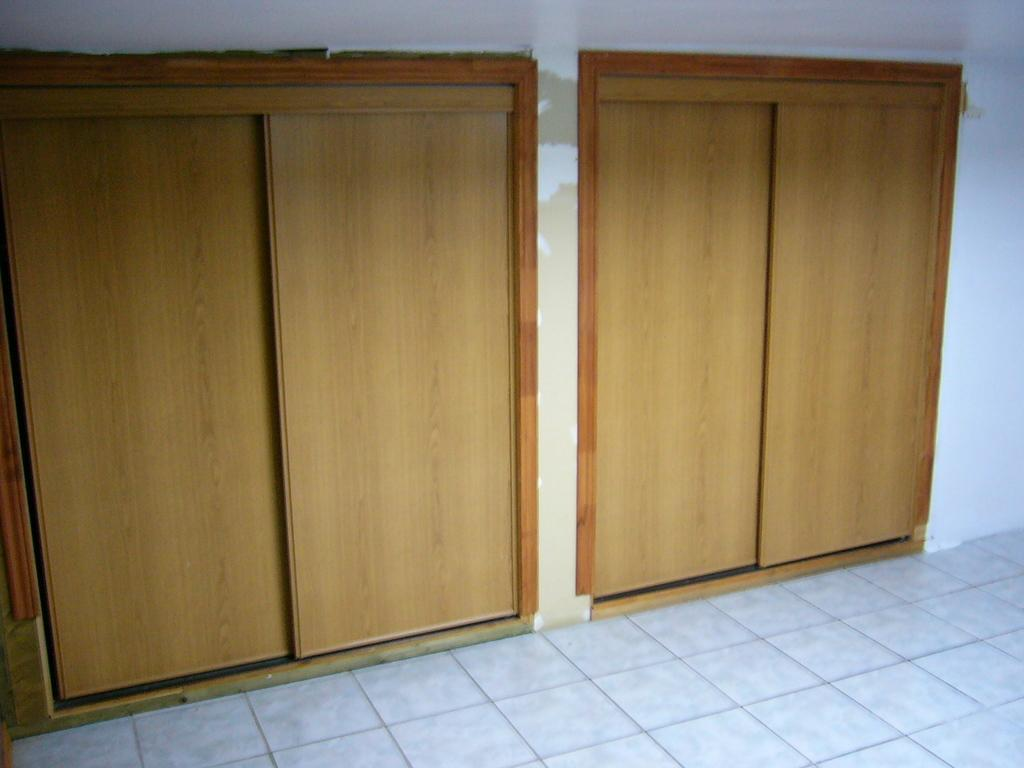door: (14, 117, 264, 670), (268, 110, 510, 621), (602, 93, 760, 572), (776, 94, 922, 530)
